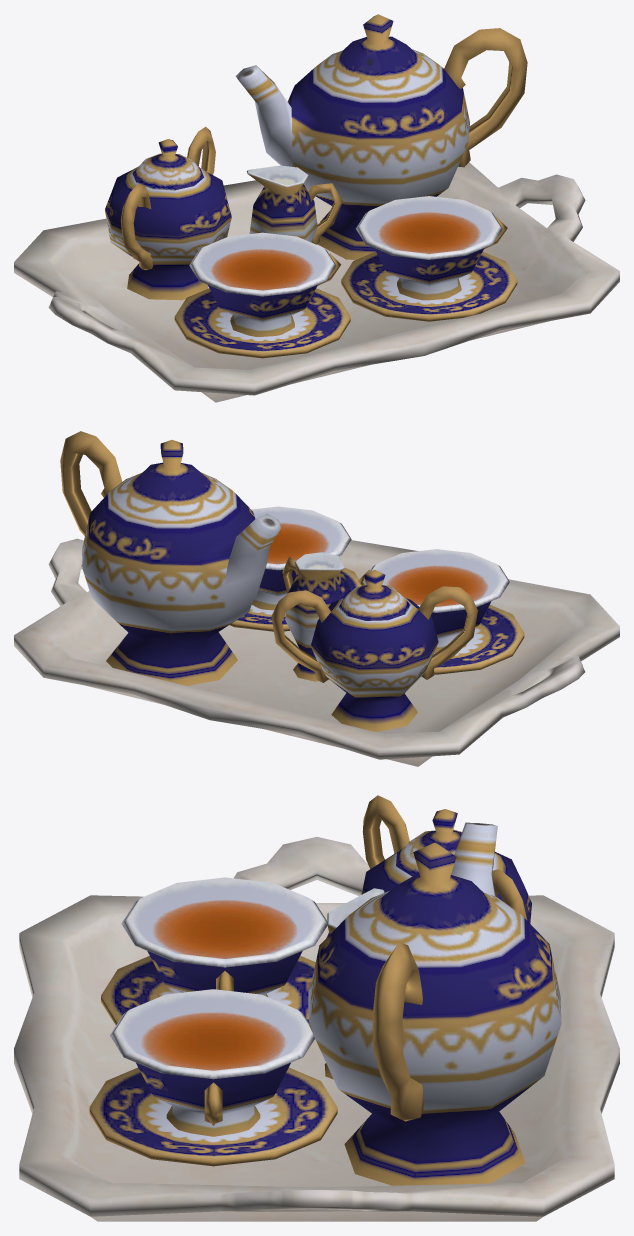
Rendered from teasetluxury.glb.
3 renders of one model, top to bottom at view 1: azimuth 30°, elevation 25°; view 2: azimuth 150°, elevation 25°; view 3: azimuth 270°, elevation 25°, orthographic. The views are drawn at different scales.
Visible parts, largest first — view 1: MilkJugBody_low__mReBody; view 2: MilkJugBody_low__mReBody; view 3: MilkJugBody_low__mReBody.
Boxes of the visible parts, x1,y1,x2,y2 form: MilkJugBody_low__mReBody: (14, 14, 619, 402); MilkJugBody_low__mReBody: (14, 431, 619, 766); MilkJugBody_low__mReBody: (14, 795, 619, 1221).
Size of the model in its own units: 9.85 by 4.17 by 7.01.
1 material, 1 textured.
